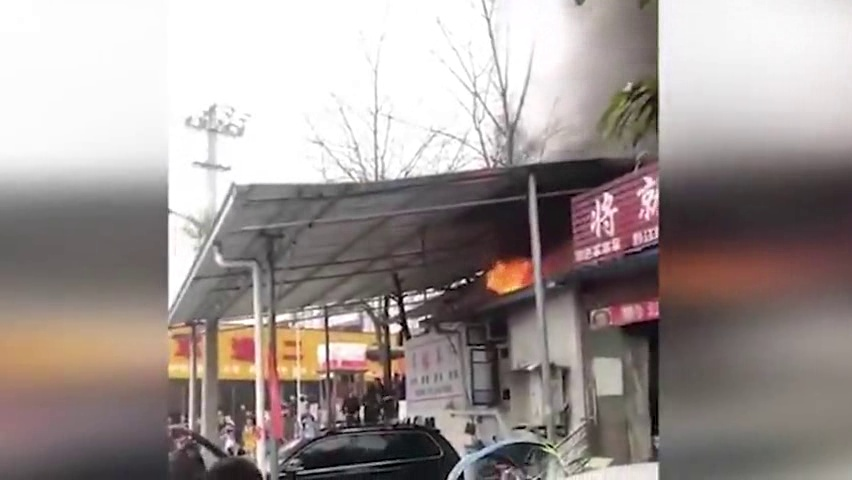fire: (483, 250, 542, 296)
